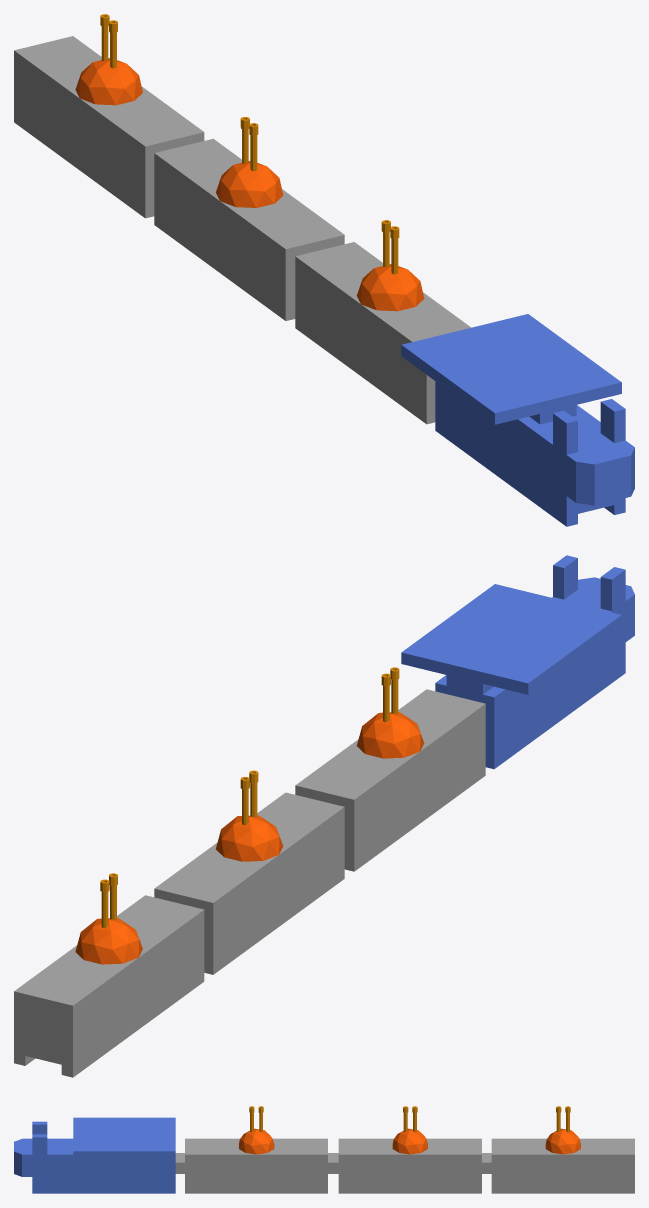
Rendered from space-train.fbx.
3 renders of one model, top to bottom at view 1: azimuth 30°, elevation 25°; view 2: azimuth 150°, elevation 25°; view 3: azimuth 270°, elevation 25°, orthographic. The views are drawn at different scales.
Parts seen in each view (by area): view 1: train-engine, train-body, train-body.002, train-body.001, turret-body.001, turret-body, turret-body.002, turret-guns.001, turret-guns, turret-guns.002; view 2: train-engine, train-body.002, train-body.001, train-body, turret-body.001, turret-body, turret-body.002, turret-guns.001, turret-guns, turret-guns.002; view 3: train-engine, train-body, train-body.002, train-body.001, turret-body.001, turret-body, turret-body.002, turret-guns.002, turret-guns, turret-guns.001.
Boxes of the visible parts, <box> form: train-engine: <box>401,314,634,526</box>; train-body: <box>154,138,344,320</box>; train-body.002: <box>14,36,204,218</box>; train-body.001: <box>295,242,470,424</box>; turret-body.001: <box>356,264,424,311</box>; turret-body: <box>216,161,283,207</box>; turret-body.002: <box>75,58,142,105</box>; turret-guns.001: <box>381,220,399,274</box>; turret-guns: <box>240,117,258,171</box>; turret-guns.002: <box>100,14,117,68</box>; train-engine: <box>401,555,634,769</box>; train-body.002: <box>14,895,204,1077</box>; train-body.001: <box>295,689,485,871</box>; train-body: <box>154,792,344,974</box>; turret-body.001: <box>357,712,424,758</box>; turret-body: <box>216,815,283,861</box>; turret-body.002: <box>75,918,142,964</box>; turret-guns.001: <box>381,667,399,722</box>; turret-guns: <box>240,770,258,825</box>; turret-guns.002: <box>100,873,117,927</box>; train-engine: <box>14,1117,175,1193</box>; train-body: <box>328,1138,481,1193</box>; train-body.002: <box>482,1138,634,1193</box>; train-body.001: <box>175,1138,327,1193</box>; turret-body.001: <box>239,1128,274,1154</box>; turret-body: <box>392,1128,427,1154</box>; turret-body.002: <box>545,1128,580,1154</box>; turret-guns.002: <box>556,1106,570,1132</box>; turret-guns: <box>403,1106,417,1132</box>; turret-guns.001: <box>249,1106,263,1132</box>.
Bounding box in the file's own units: 430 × 466 × 3340.
